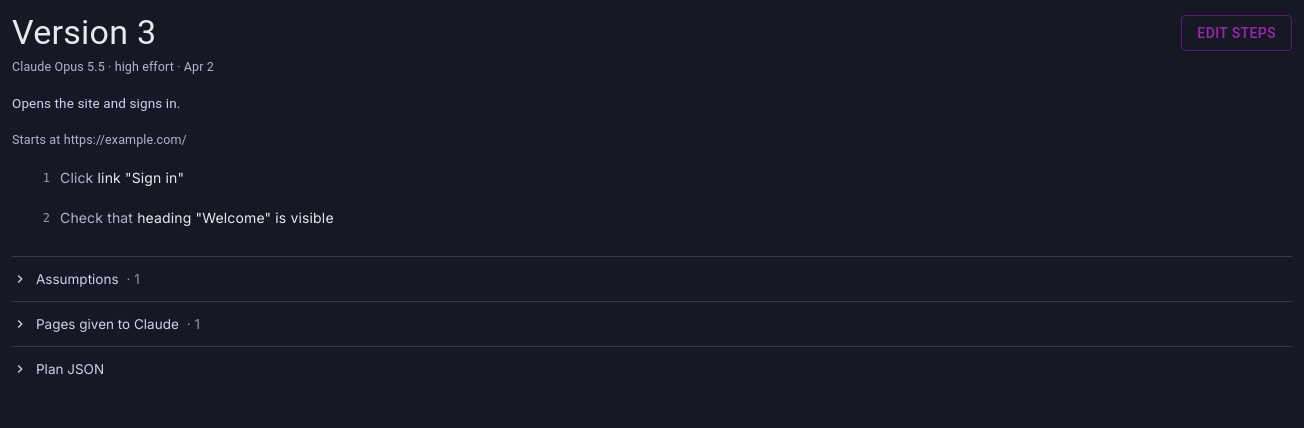
Test: ActionScriptDetails › collapsed rows › opens the assumptions Claude made
The image size is (1304, 428).
Click the button "Assumptions · 1".
click(77, 279)  # box [12,257,1292,301]
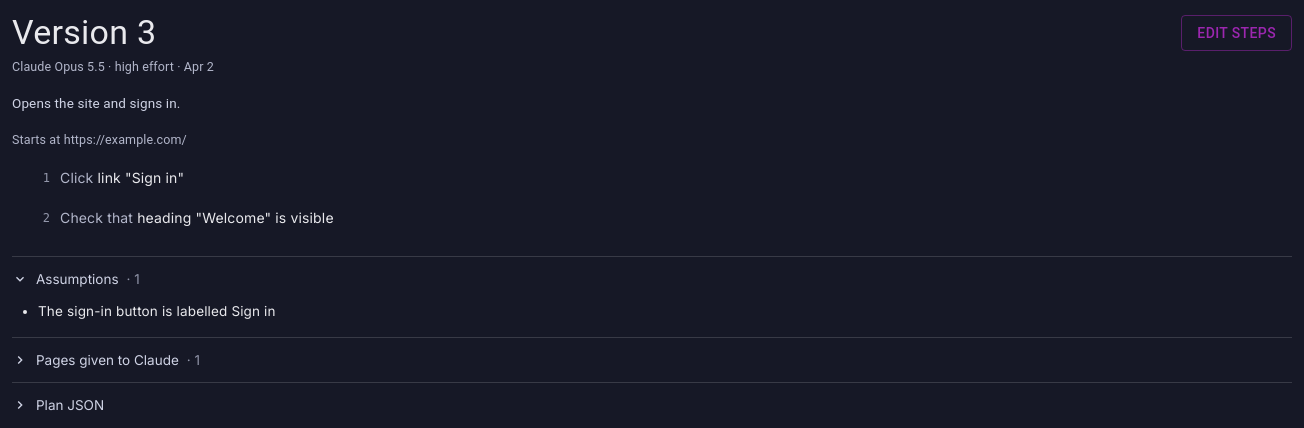
Expected: the list item "The sign-in button is labelled Sign in" is shown, [38,303,276,319]
